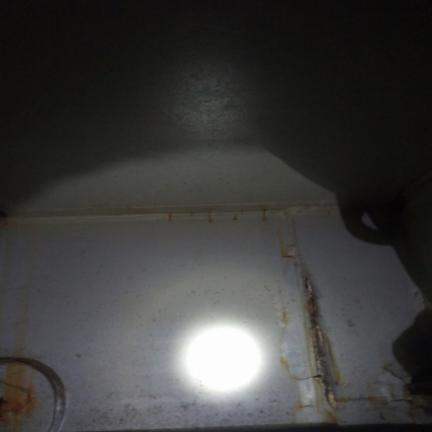besi_tidak_karat: (0, 208, 428, 431)
